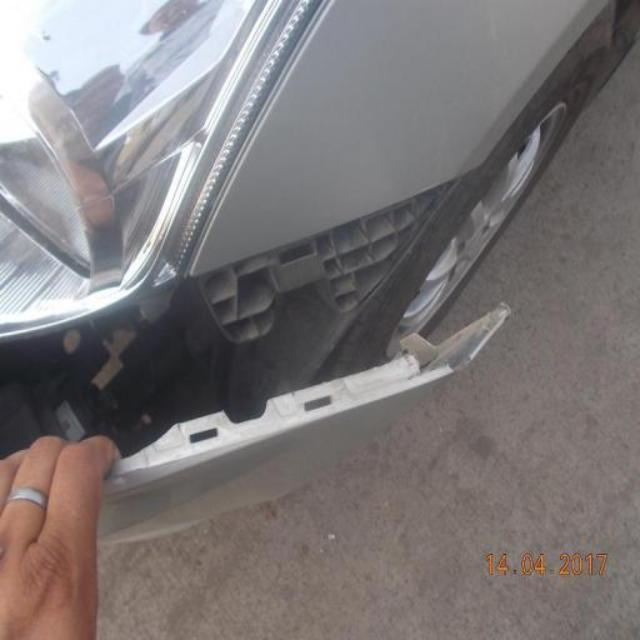dislocated part: (2, 161, 482, 461)
